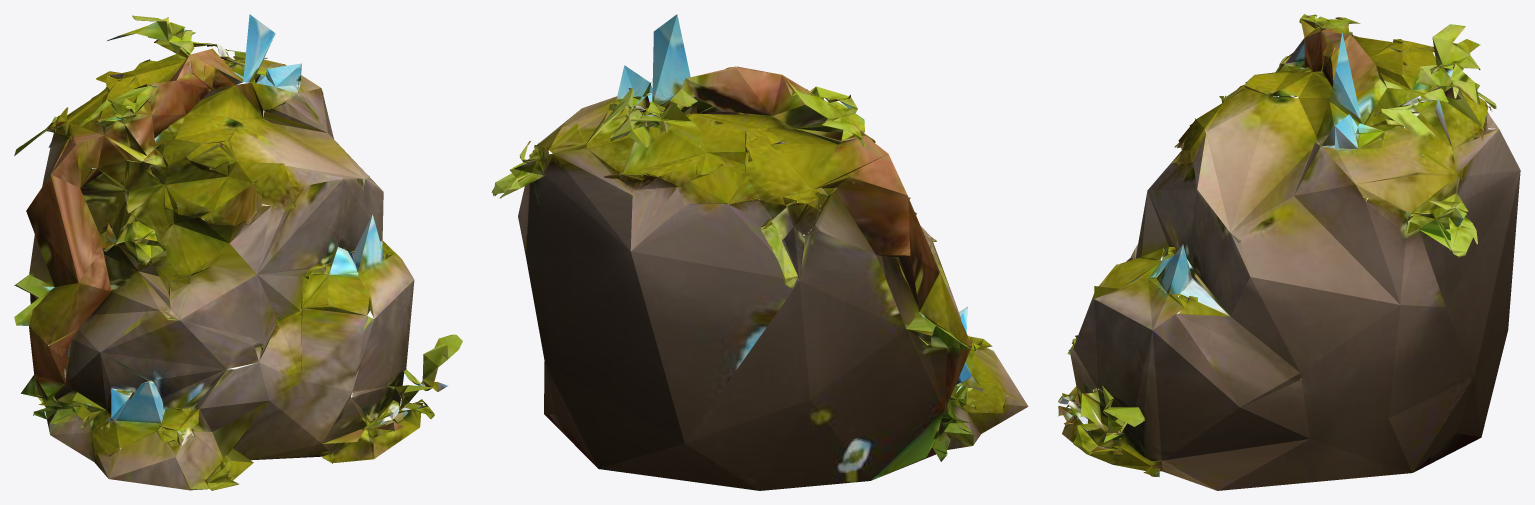
The model's file is fairy_crystal_shore_1117.glb.
The picture shows the model from 3 angles, left to right: view 1: azimuth 30°, elevation 25°; view 2: azimuth 150°, elevation 25°; view 3: azimuth 270°, elevation 25°; orthographic projection. The views are drawn at different scales.
Visible parts, largest first — view 1: geometry_0; view 2: geometry_0; view 3: geometry_0.
Boxes of the visible parts, x1,y1,x2,y2 form: geometry_0: (14, 14, 462, 490); geometry_0: (491, 14, 1028, 490); geometry_0: (1058, 14, 1520, 490).
Bounding box in the file's own units: 1.07 × 1 × 1.04.
1 material, 1 textured.
